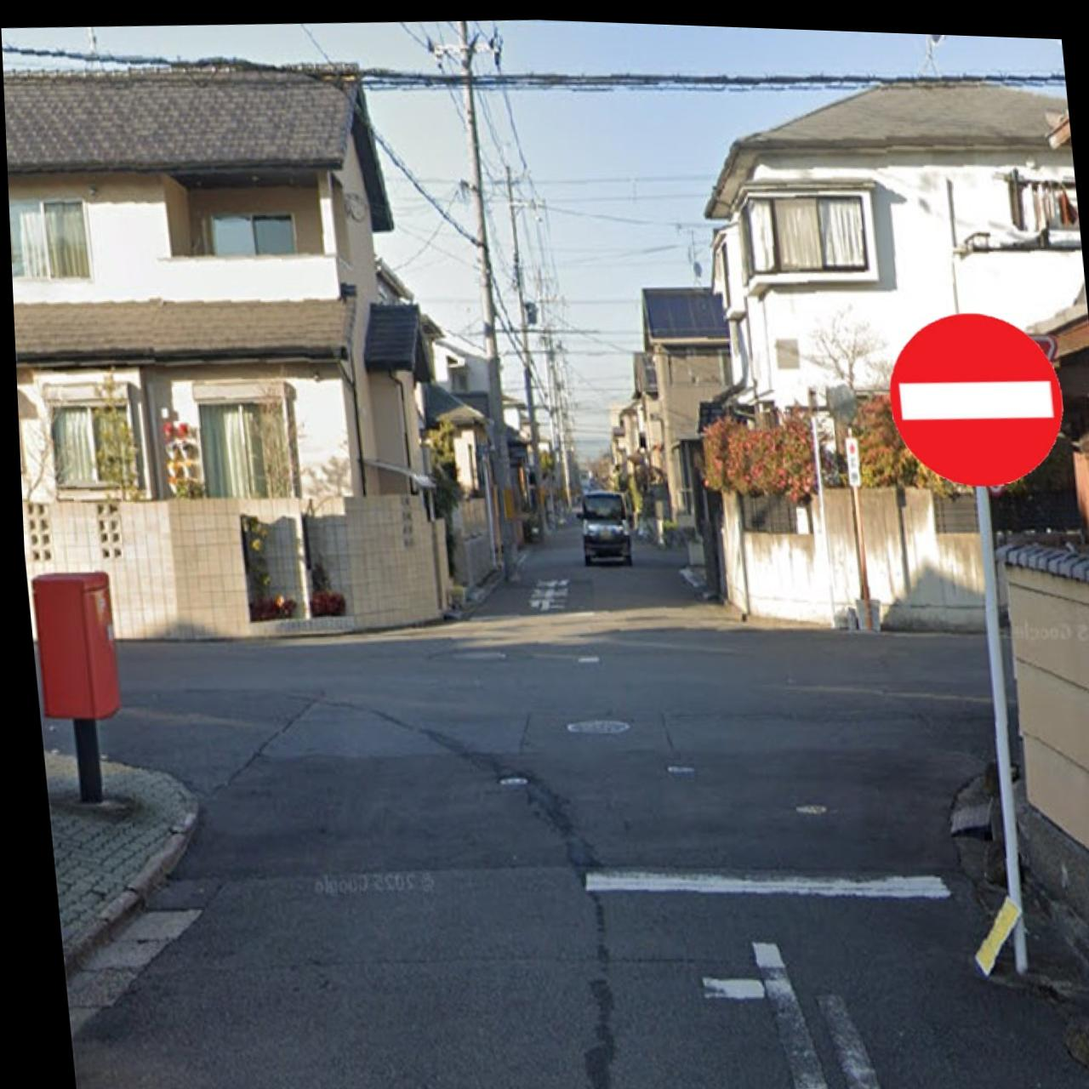barrier: (877, 304, 1071, 496)
